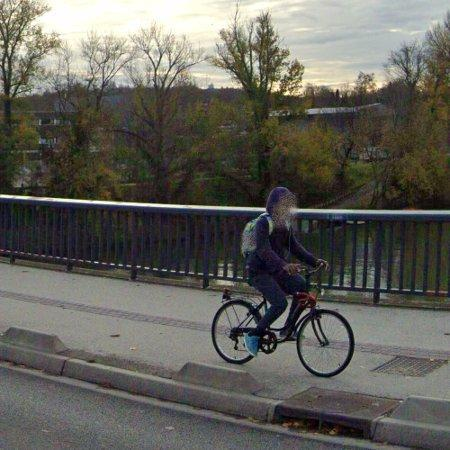bicycles: (260, 293, 354, 378), (212, 294, 268, 364)
